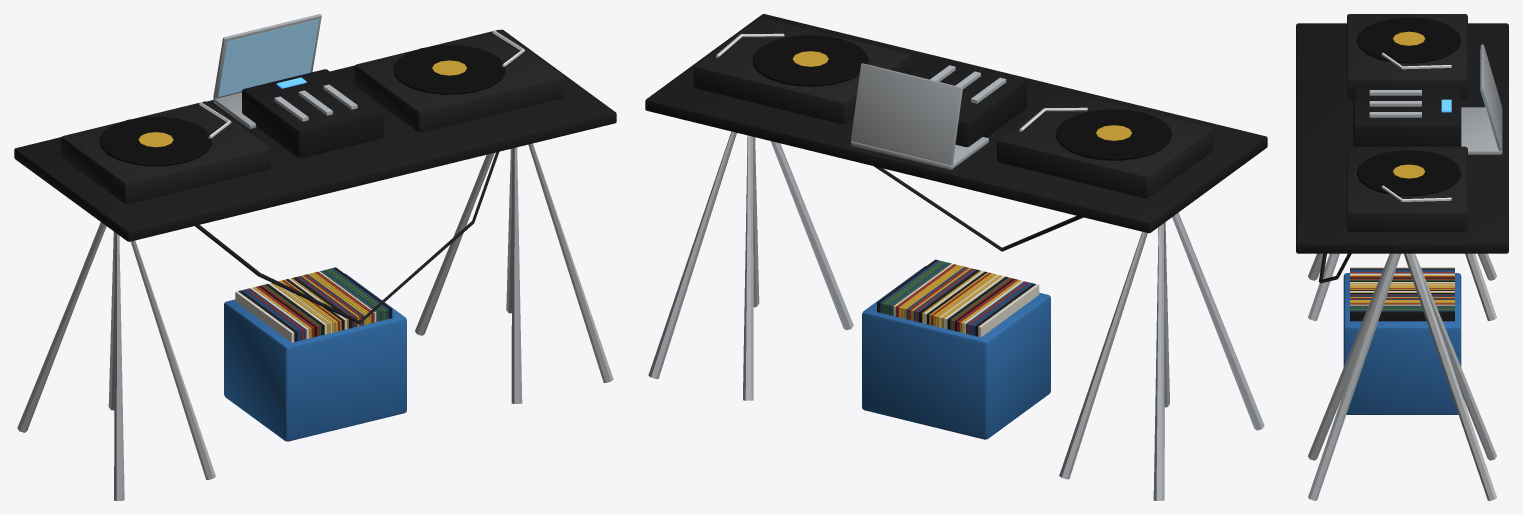
File: mae_dj_table.glb
3 views of the same model, side by side, from view 1: azimuth 30°, elevation 25°; view 2: azimuth 150°, elevation 25°; view 3: azimuth 270°, elevation 25° (orthographic). The views are drawn at different scales.
Parts seen in each view (by area): view 1: mae_dj_table; view 2: mae_dj_table; view 3: mae_dj_table.
Boxes of the visible parts, <box> form: mae_dj_table: <box>14,14,616,500</box>; mae_dj_table: <box>645,14,1267,500</box>; mae_dj_table: <box>1296,14,1508,500</box>.
Bounding box in the file's own units: 1.63 × 1.09 × 0.65.
